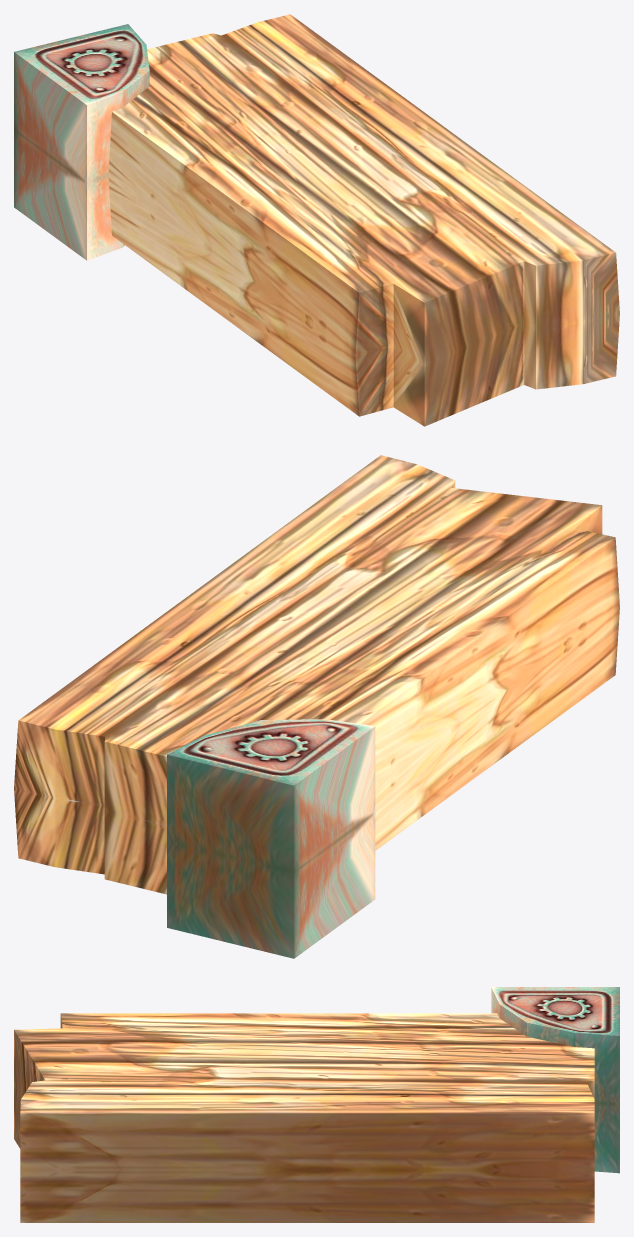
3 views of the same model, one above another, from view 1: azimuth 30°, elevation 25°; view 2: azimuth 150°, elevation 25°; view 3: azimuth 270°, elevation 25° (orthographic). The views are drawn at different scales.
Visible parts, largest first — view 1: PlankB-Thick; view 2: PlankB-Thick; view 3: PlankB-Thick.
Boxes of the visible parts, left/top/right/bottom form: PlankB-Thick: left=14, top=14, right=619, bottom=426; PlankB-Thick: left=14, top=455, right=619, bottom=958; PlankB-Thick: left=14, top=987, right=619, bottom=1222.
Size of what is drawn, in the model's own units: 1.01 by 0.5657 by 2.27.
Materials: 1 (1 with a texture image).
